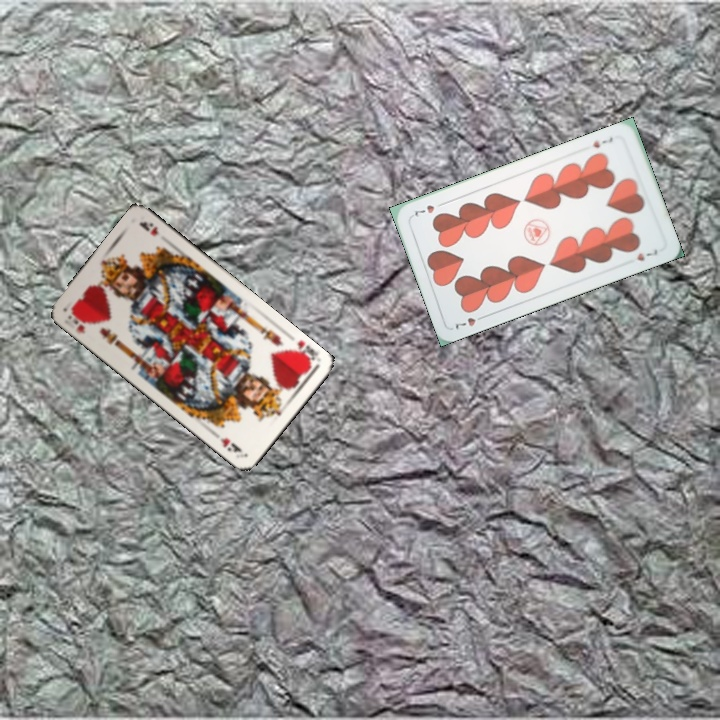H7: (450, 311, 489, 332), (589, 133, 615, 151)
HK: (286, 336, 321, 368), (67, 306, 93, 336)
